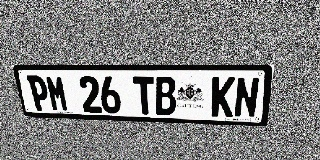2: (78, 76, 102, 113)
6: (98, 76, 122, 114)
B: (154, 76, 176, 115)
K: (211, 77, 235, 117)
M: (45, 76, 70, 112)
N: (233, 77, 260, 118)
P: (26, 75, 51, 111)
T: (133, 76, 155, 115)
